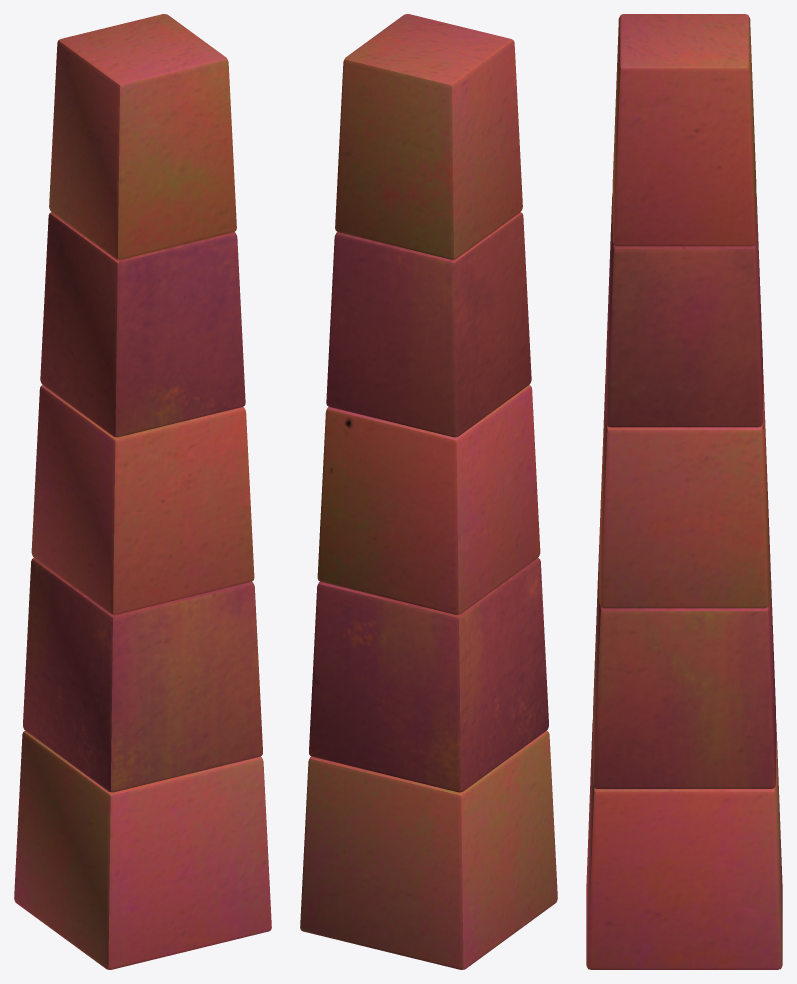
File: TEMPLE_PILLAR_THIN.obj
3 views of the same model, side by side, from view 1: azimuth 30°, elevation 25°; view 2: azimuth 150°, elevation 25°; view 3: azimuth 270°, elevation 25° (orthographic). The views are drawn at different scales.
Parts seen in each view (by area): view 1: TEMPLE_PILLAR_THIN.003; view 2: TEMPLE_PILLAR_THIN.003; view 3: TEMPLE_PILLAR_THIN.003.
Part boxes in pixels (x1=…): TEMPLE_PILLAR_THIN.003: x1=14, y1=14, x2=271, y2=969; TEMPLE_PILLAR_THIN.003: x1=300, y1=14, x2=557, y2=969; TEMPLE_PILLAR_THIN.003: x1=586, y1=14, x2=782, y2=969.
Bounding box in the file's own units: 0.599 × 3 × 0.599.
